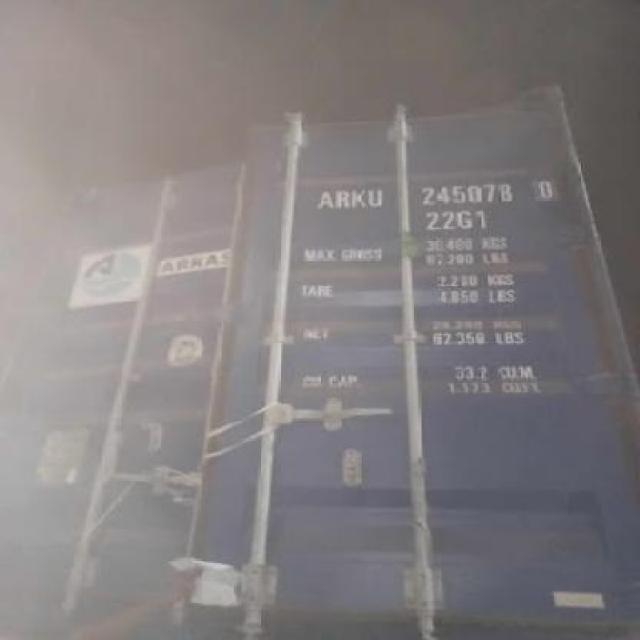ISO: (434, 211, 488, 232)
container_number: (312, 172, 567, 215)
